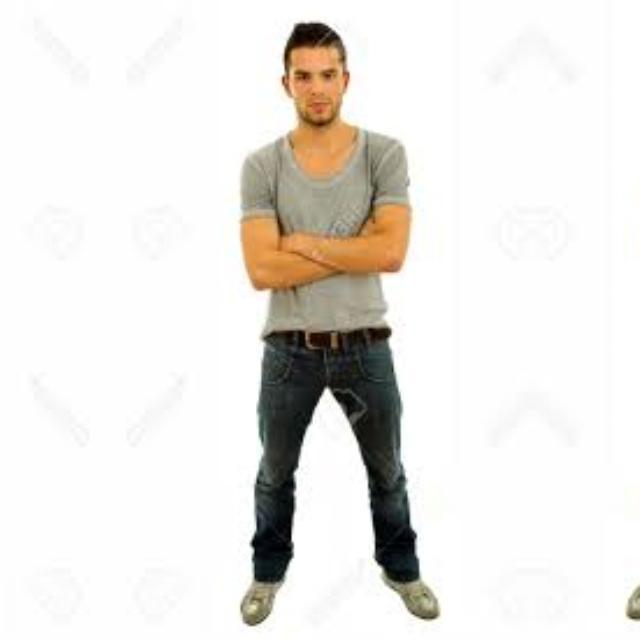person: (222, 16, 458, 640), (608, 16, 640, 639)
